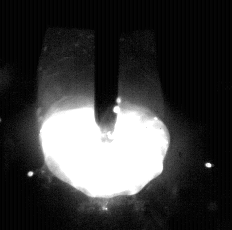arame: (94, 0, 119, 133)
poca: (38, 0, 170, 230)
